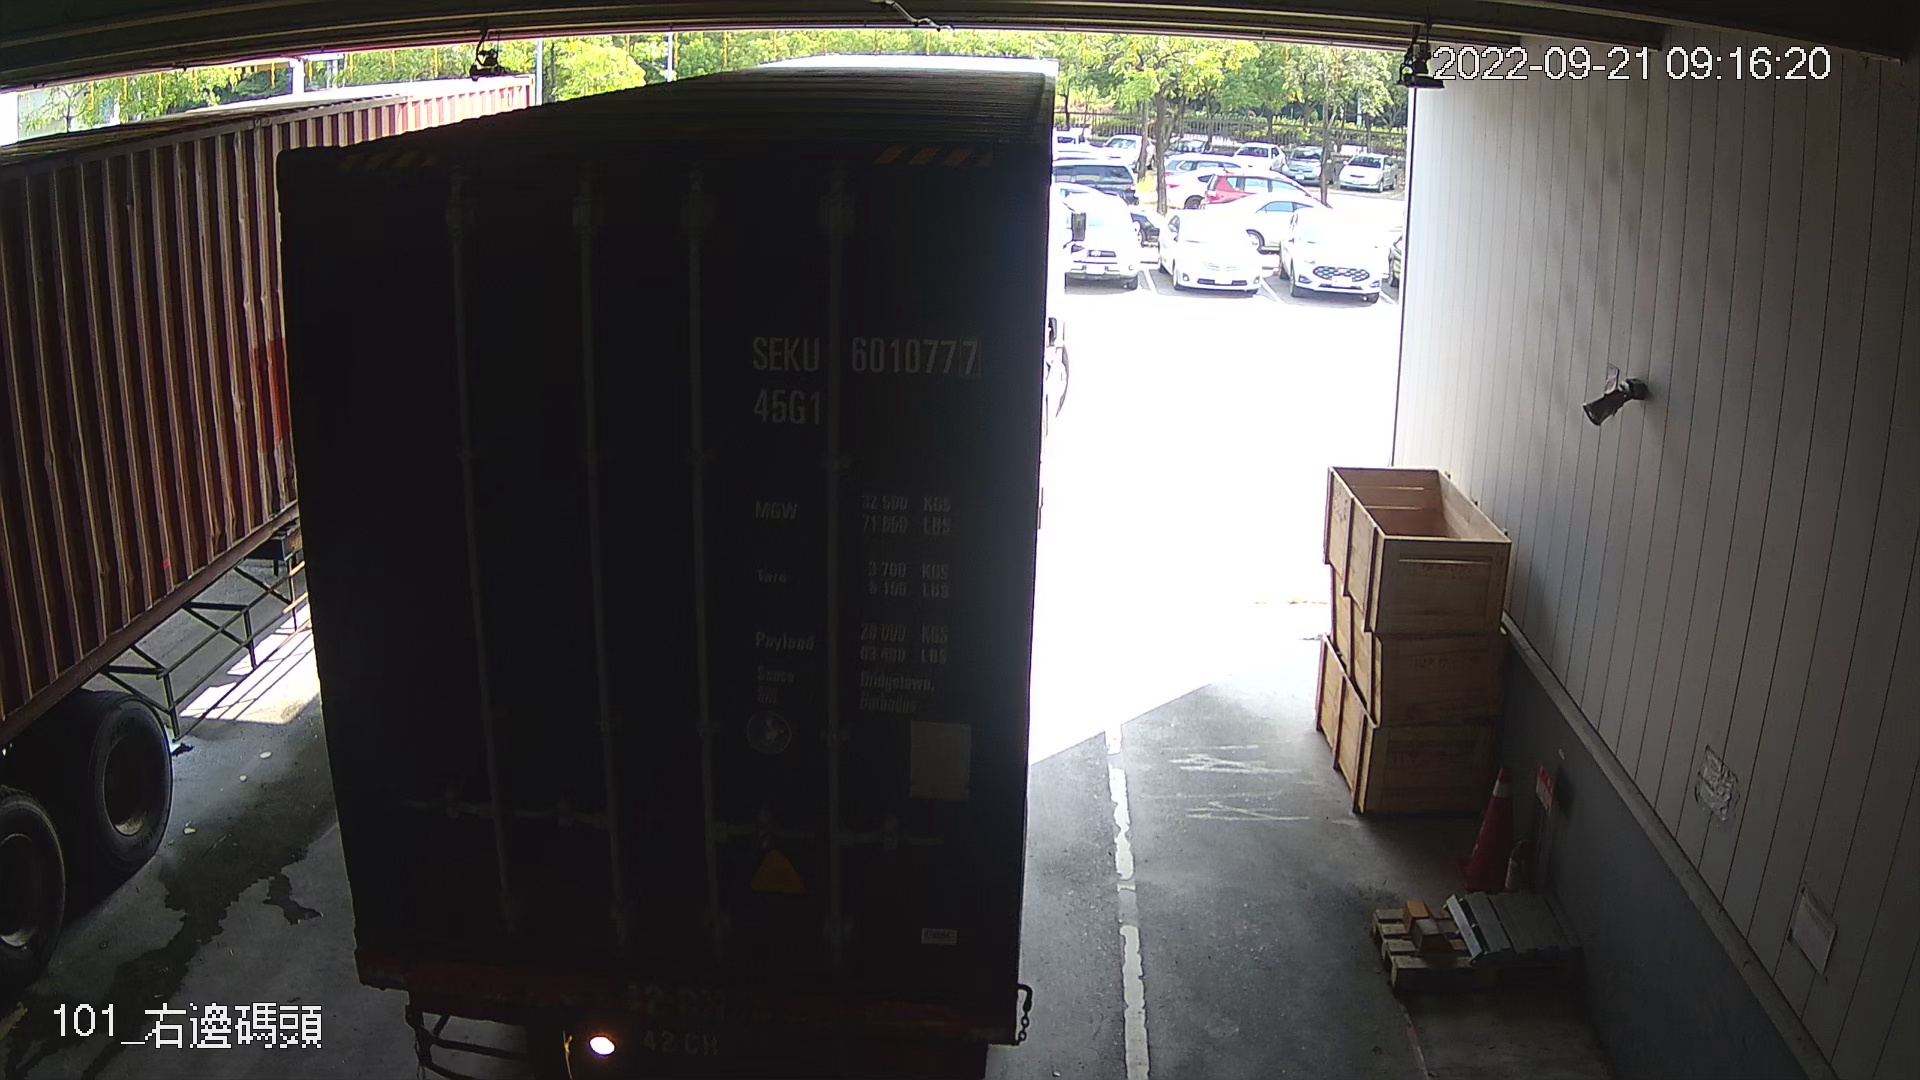container: (735, 319, 992, 438)
